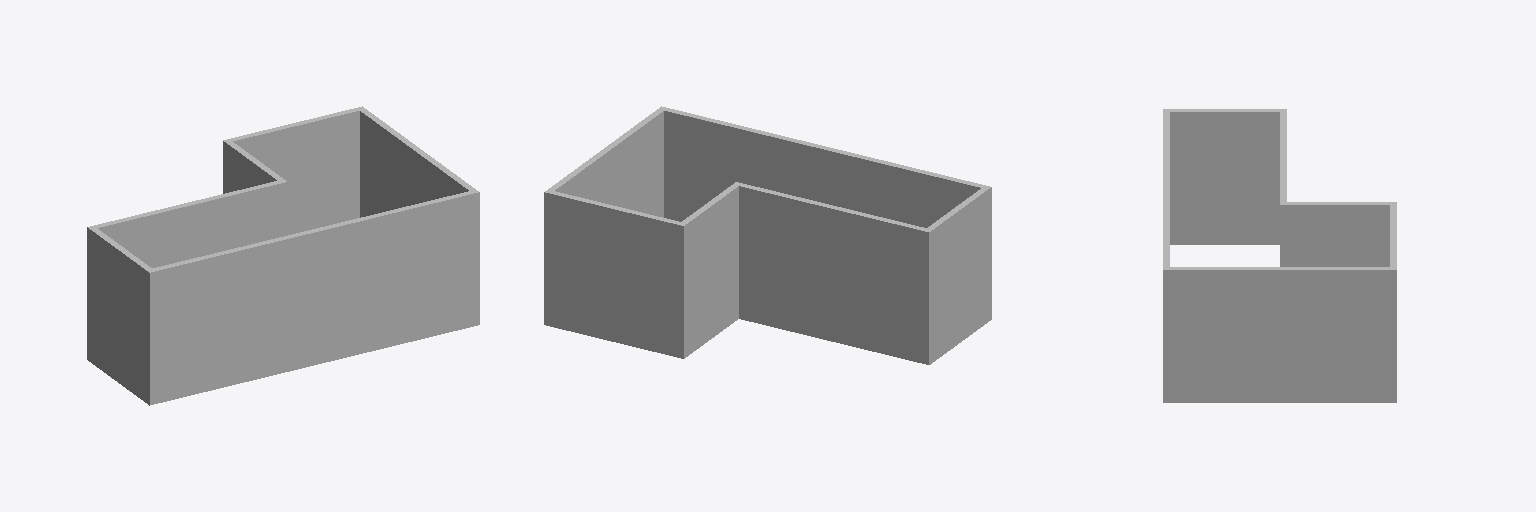
File: roomfusion360.obj
3 renders of one model, left to right at view 1: azimuth 30°, elevation 25°; view 2: azimuth 150°, elevation 25°; view 3: azimuth 270°, elevation 25°, orthographic.
Visible parts, largest first — view 1: Body1; view 2: Body1; view 3: Body1.
Part boxes in pixels (x1,y1,x2,y2): Body1: (87, 106, 479, 405); Body1: (544, 106, 991, 364); Body1: (1163, 109, 1396, 402).
Bounding box in the file's own units: 5200 × 2000 × 3200.